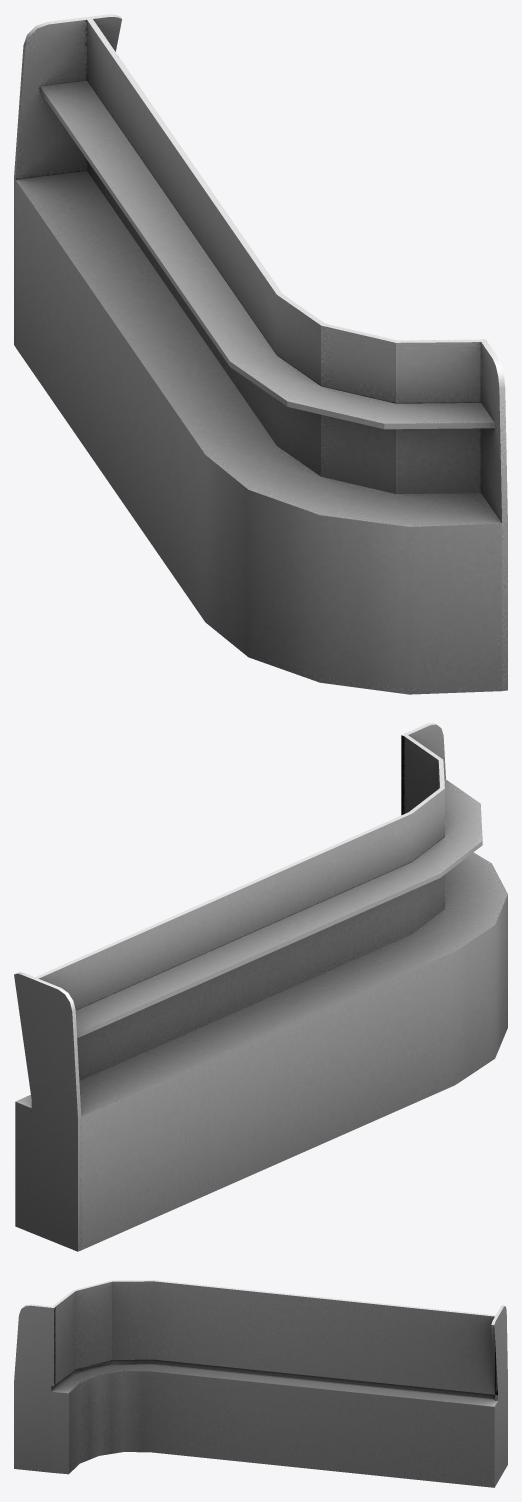
File: FoodCounter.fbx
The picture shows the model from 3 angles, top to bottom: view 1: azimuth 30°, elevation 25°; view 2: azimuth 150°, elevation 25°; view 3: azimuth 270°, elevation 25°; orthographic projection. The views are drawn at different scales.
Parts seen in each view (by area): view 1: Layer:Display Shelving; view 2: Layer:Display Shelving; view 3: Layer:Display Shelving.
Boxes of the visible parts, <box> form: Layer:Display Shelving: <box>14,14,507,694</box>; Layer:Display Shelving: <box>14,723,507,1251</box>; Layer:Display Shelving: <box>14,1280,507,1487</box>.
Bounding box in the file's own units: 85.6 × 110 × 298.
1 material, 1 textured.
